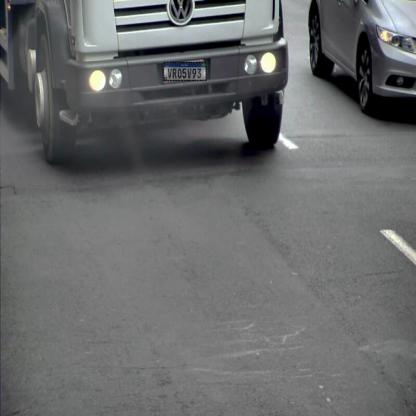PlacaM: (164, 62, 206, 81)
